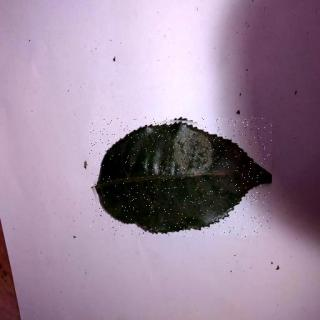Anthracnose: (91, 118, 273, 238)
